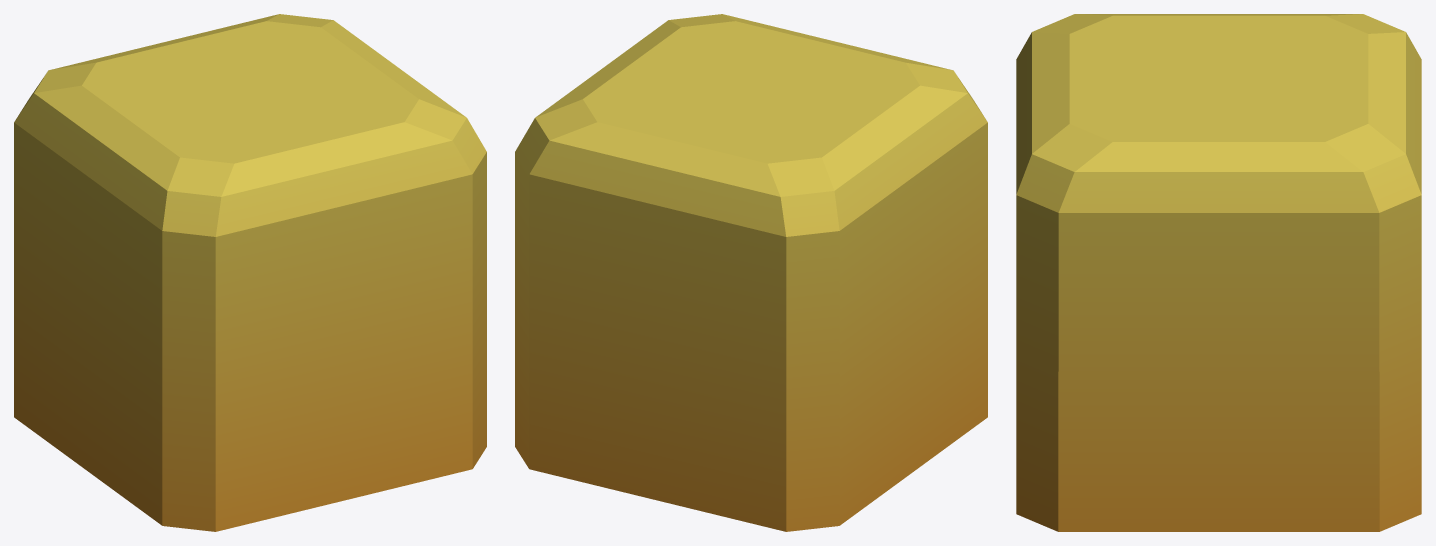
File: StoolYellow.fbx
The picture shows the model from 3 angles, left to right: view 1: azimuth 30°, elevation 25°; view 2: azimuth 150°, elevation 25°; view 3: azimuth 270°, elevation 25°; orthographic projection. The views are drawn at different scales.
Parts seen in each view (by area): view 1: YellowStool; view 2: YellowStool; view 3: YellowStool.
Part boxes in pixels (left/top/right/bottom): YellowStool: left=14, top=14, right=486, bottom=531; YellowStool: left=515, top=14, right=987, bottom=531; YellowStool: left=1016, top=14, right=1421, bottom=531.
Bounding box in the file's own units: 76.5 × 76.5 × 76.5.
